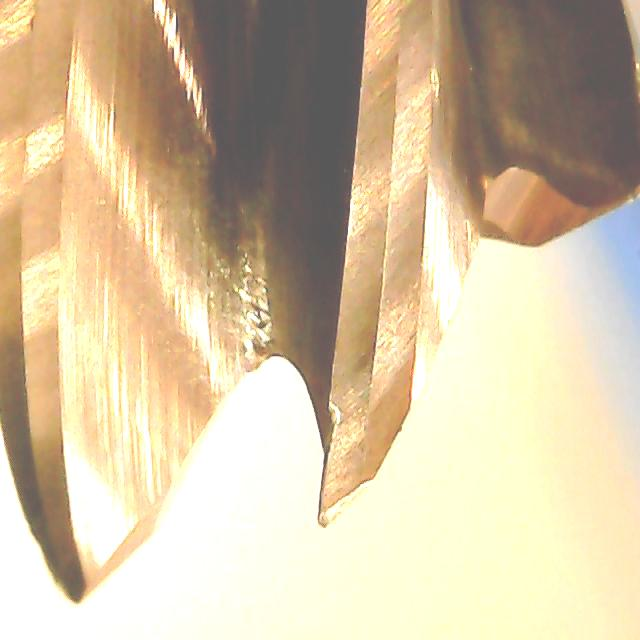Tool-wear-class-1: (298, 260, 415, 533)
